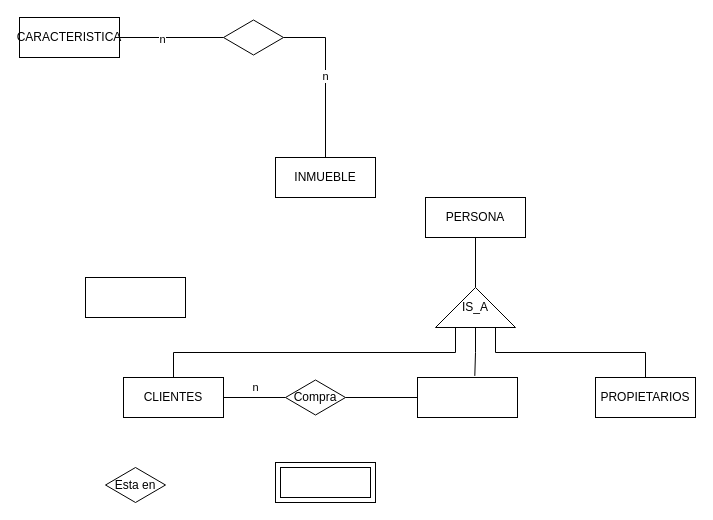
Image size: 713x520. Some labels were removed from this diagram. Here are the shapes that lost their labels. From the top down, the centre of each, then its label:
the point at 253,37: Tiene
the point at 135,297: POBLACION
the point at 467,397: VENDEDOR
the point at 325,482: ZONA
